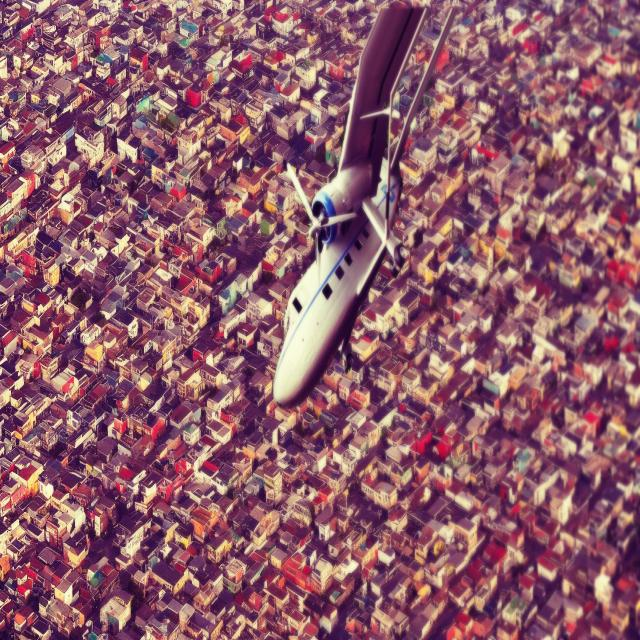airplane: (271, 0, 459, 409)
